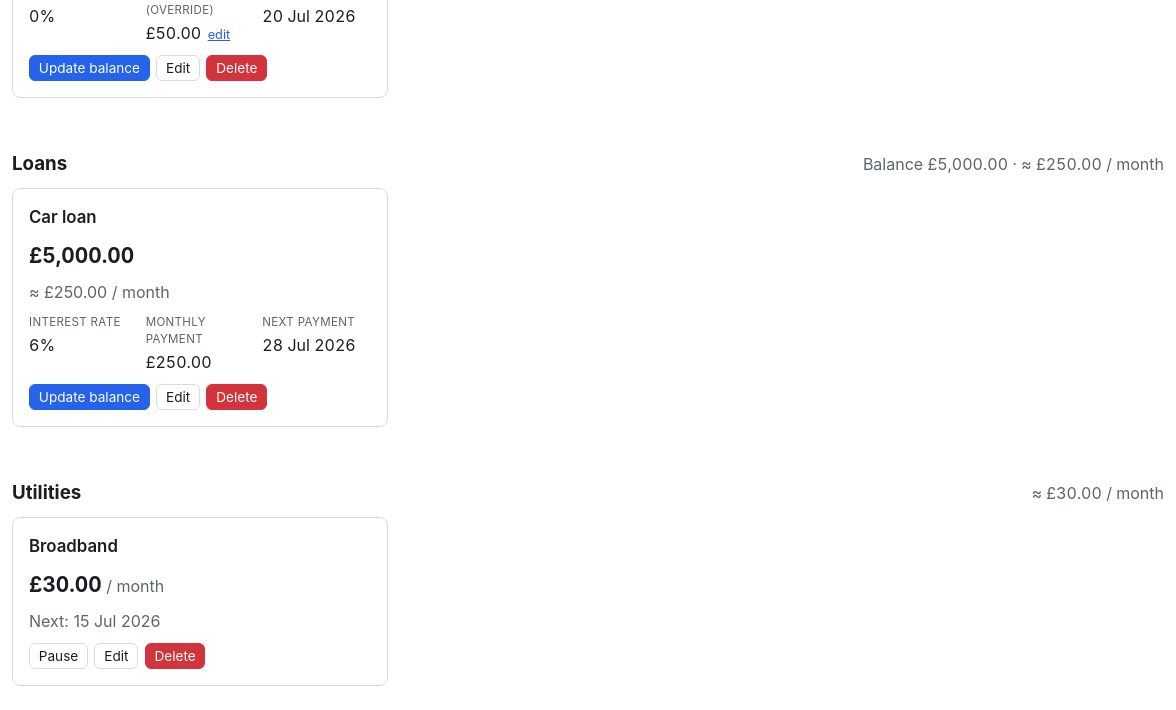
Test case: Expenses screen › paused expenses drop out of the totals
This screenshot has width=1176, height=710.
(page scrolled)
Expected: the text "Broadband" is shown, [29, 534, 118, 559]
Step 1. Click the button "Pause" → (59, 656), box [29, 643, 88, 669]
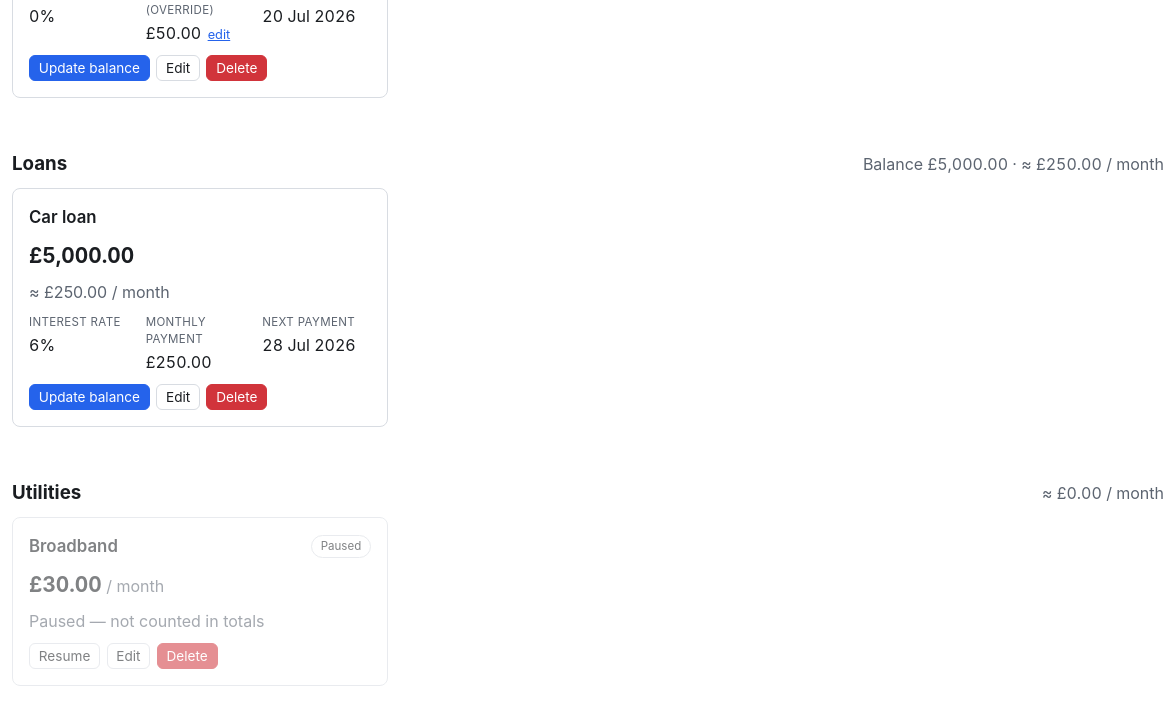
Expected: the text "Paused — not counted in totals" is shown, [29, 611, 264, 631]
